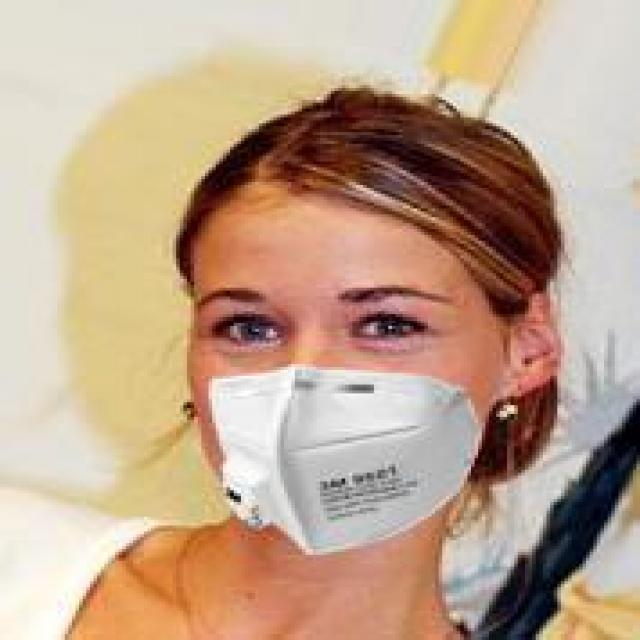mask: (165, 106, 554, 552)
